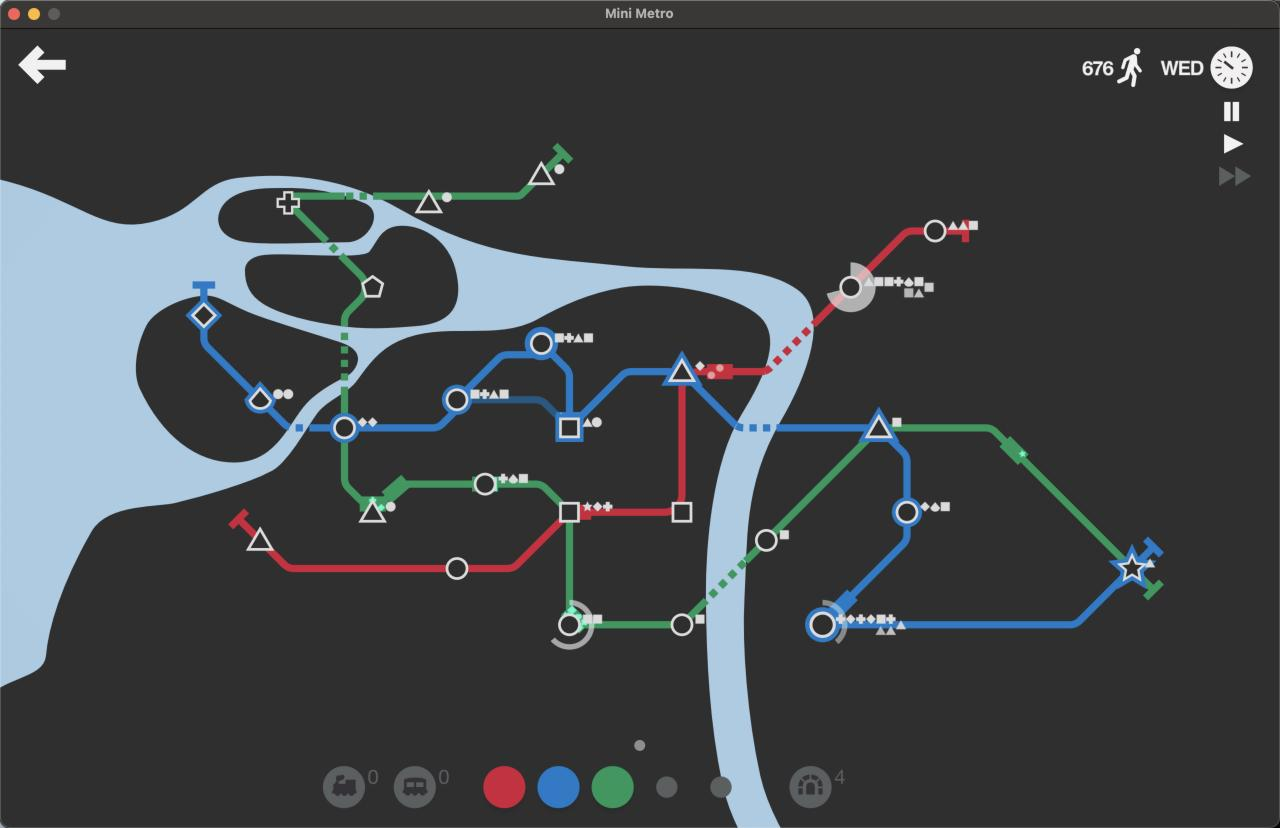CIRCLE: (805, 606, 841, 643), (891, 497, 922, 528), (330, 413, 359, 442), (527, 328, 555, 357), (557, 611, 583, 638), (444, 386, 469, 413), (670, 612, 695, 638), (923, 218, 947, 243), (754, 528, 778, 553), (473, 472, 497, 497), (445, 556, 469, 581), (839, 274, 863, 299)
CROSS: (275, 190, 300, 214)
GEM: (188, 302, 219, 330), (360, 275, 384, 299)
SQUARE: (556, 415, 582, 441), (671, 501, 694, 524), (558, 501, 581, 524)
STAR: (1106, 541, 1157, 588)
TRIANGLE: (861, 407, 898, 442), (666, 354, 696, 385), (358, 498, 387, 524), (414, 188, 443, 214), (528, 161, 555, 187), (247, 527, 275, 551)
WEDGE: (245, 384, 274, 413)
